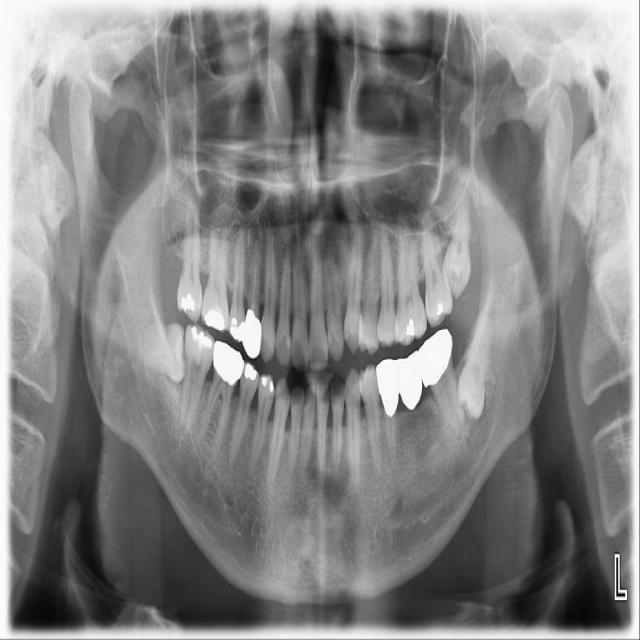52: (418, 328, 453, 387), (394, 349, 426, 412), (374, 357, 402, 418), (393, 300, 428, 348), (211, 340, 246, 386), (199, 286, 233, 333), (423, 280, 455, 329), (185, 322, 215, 372), (240, 308, 265, 360), (177, 277, 203, 322), (240, 360, 261, 398), (226, 309, 247, 344), (258, 374, 275, 410)
73: (247, 239, 263, 323), (604, 569, 615, 585)
BioHorizons Implant: (420, 208, 454, 329)
BioLife Implant: (442, 196, 471, 299)
Biomet 3i Implant: (452, 304, 498, 423)
Blue Sky Bio Implant: (414, 328, 468, 442)
Caries: (177, 203, 202, 323)
Implant: (179, 321, 216, 432)
Keystone Dental Implant: (141, 322, 187, 384)
